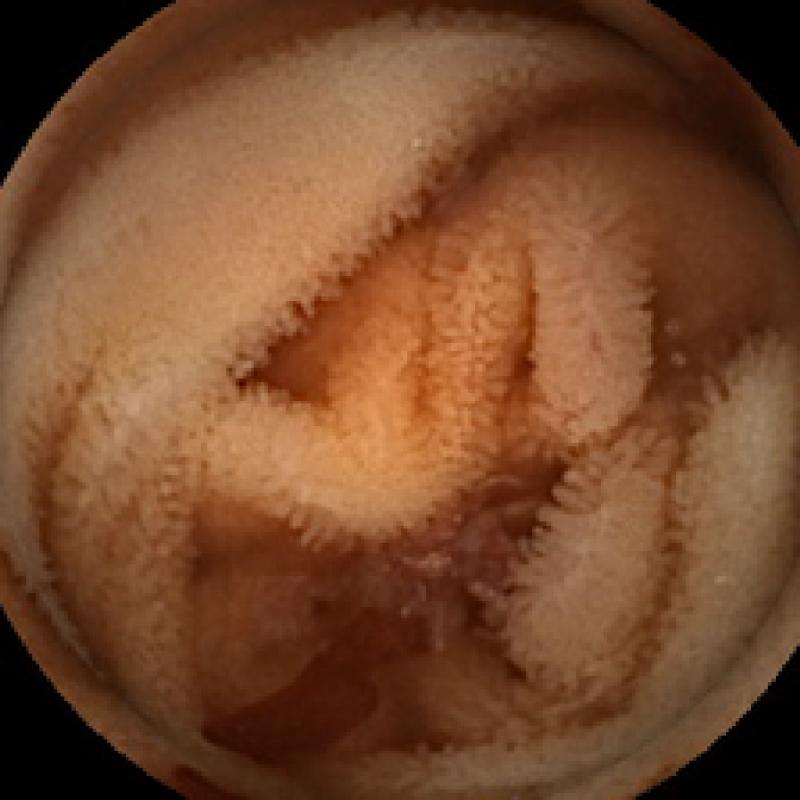bleeding: (174, 596, 450, 798)
